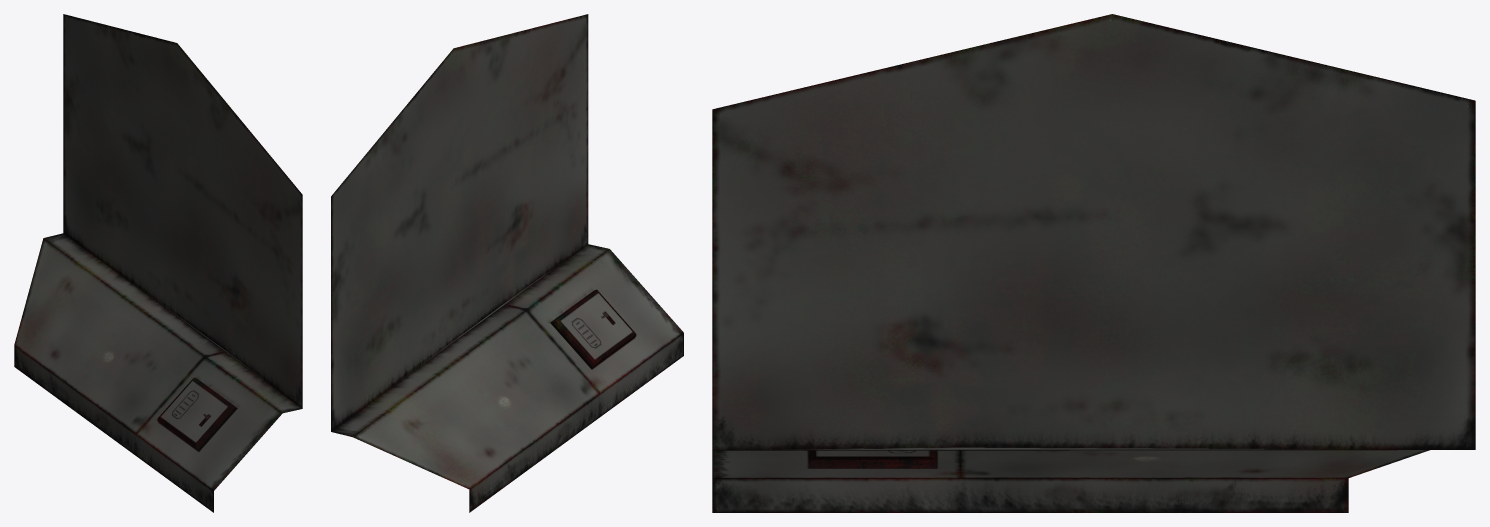
The model's file is AngeledTunnel Wall_Hatch.fbx.
3 renders of one model, left to right at view 1: azimuth 30°, elevation 25°; view 2: azimuth 150°, elevation 25°; view 3: azimuth 270°, elevation 25°, orthographic. The views are drawn at different scales.
Parts seen in each view (by area): view 1: Wall_Hatch.001; view 2: Wall_Hatch.001; view 3: Wall_Hatch.001.
Boxes of the visible parts, bbox=[...] form: Wall_Hatch.001: bbox=[14, 14, 302, 512]; Wall_Hatch.001: bbox=[331, 14, 683, 512]; Wall_Hatch.001: bbox=[712, 14, 1475, 512].
Size of the model in its own units: 954 by 205 by 784.
